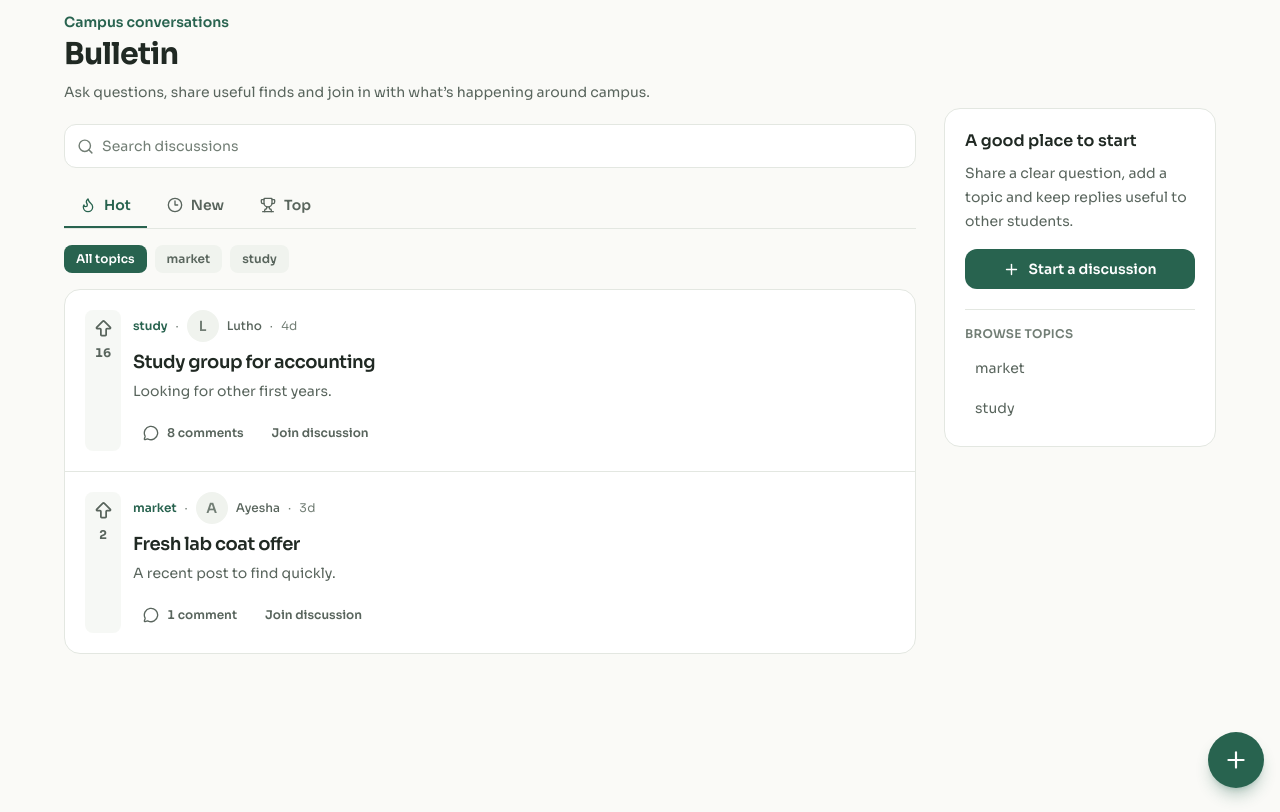
Test: Reddit-style bulletin feed › filters discussions by search text and topic
The width and height of the screenshot is (1280, 812).
Expected: the heading "Fresh lab coat offer" is shown, [133, 533, 300, 555]
Click the 1st button "study": [260, 259] box [230, 245, 289, 273]
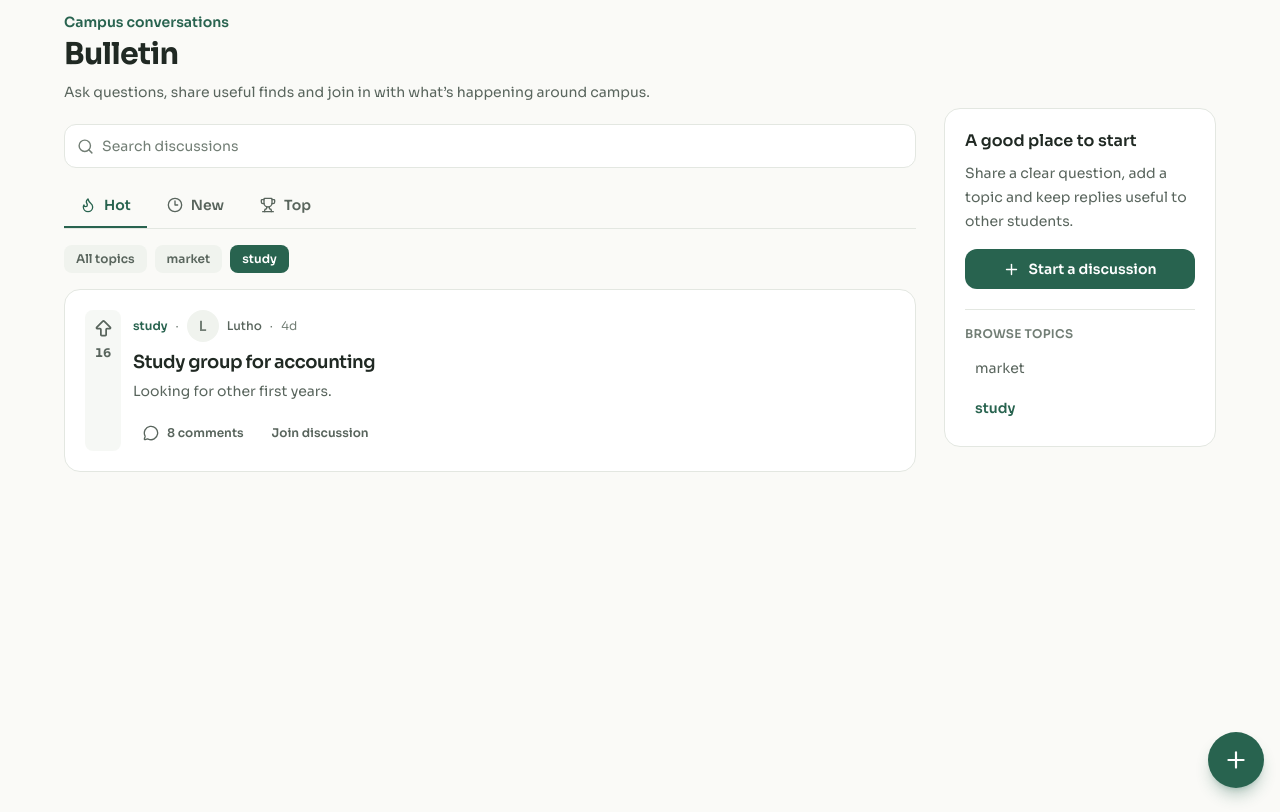
Expected: the heading "Study group for accounting" is shown, [133, 351, 375, 373]
Result: the link "Fresh lab coat offer" is gone
In the search field labelled "Search discussions": [502, 146] box [102, 136, 903, 156], type "does not exist"
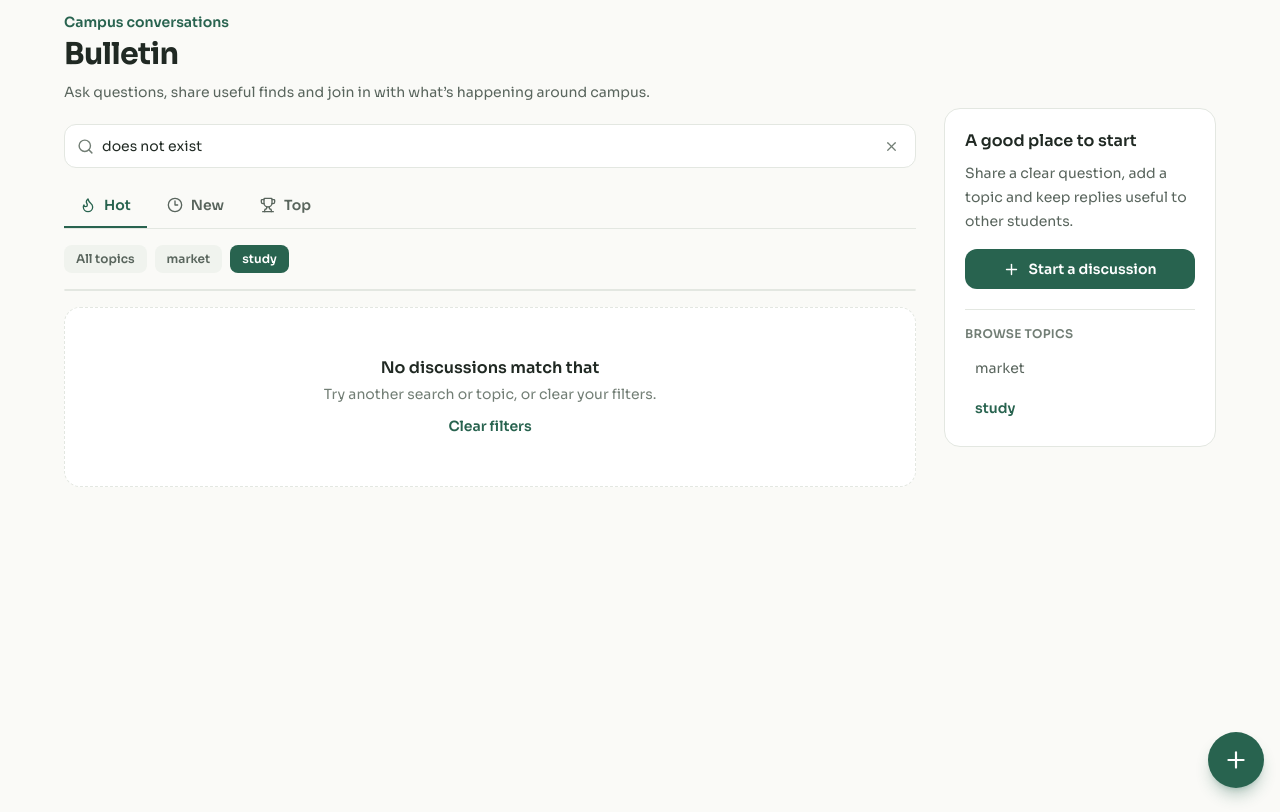
Result: the text "No discussions match that" is shown at [381, 357, 599, 378]
Click the button "Clear filters": [490, 426] box [448, 416, 532, 436]
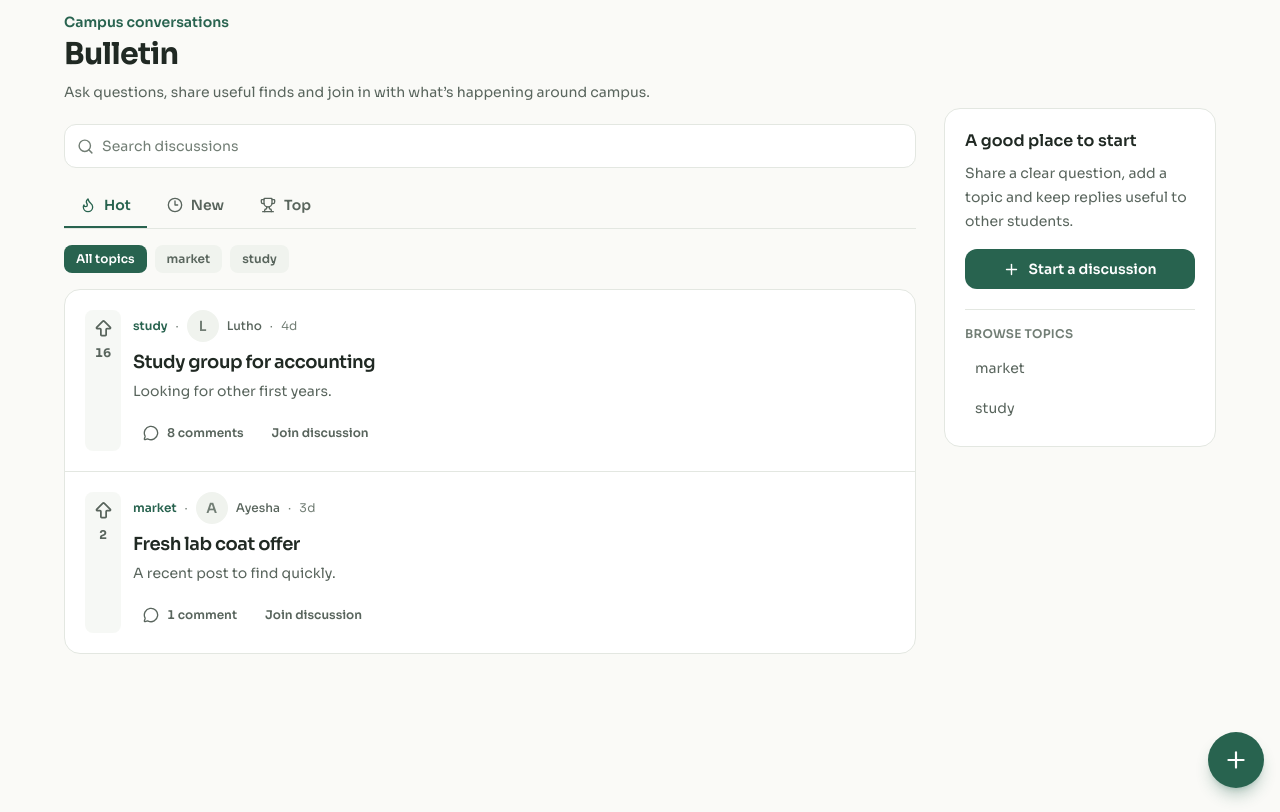
Result: the heading "Study group for accounting" is shown at [133, 351, 375, 373]
